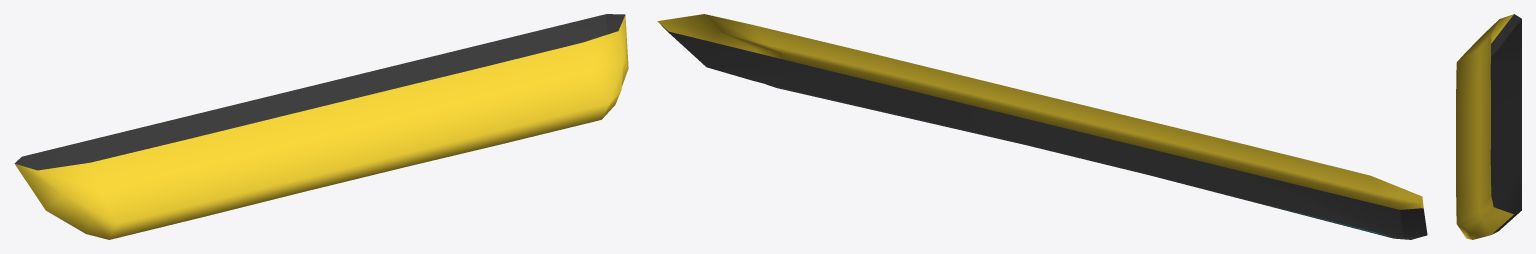
File: Car_14_FrontBumper_Simple.fbx
The picture shows the model from 3 angles, left to right: view 1: azimuth 30°, elevation 25°; view 2: azimuth 150°, elevation 25°; view 3: azimuth 270°, elevation 25°; orthographic projection. The views are drawn at different scales.
Parts seen in each view (by area): view 1: Car_14_FrontBumper_Simple; view 2: Car_14_FrontBumper_Simple; view 3: Car_14_FrontBumper_Simple.
Part boxes in pixels (<box>): Car_14_FrontBumper_Simple: <box>14,14,628,239</box>; Car_14_FrontBumper_Simple: <box>657,14,1427,239</box>; Car_14_FrontBumper_Simple: <box>1456,14,1521,239</box>.
Size of the model in its own units: 165 by 22.98 by 16.78.
